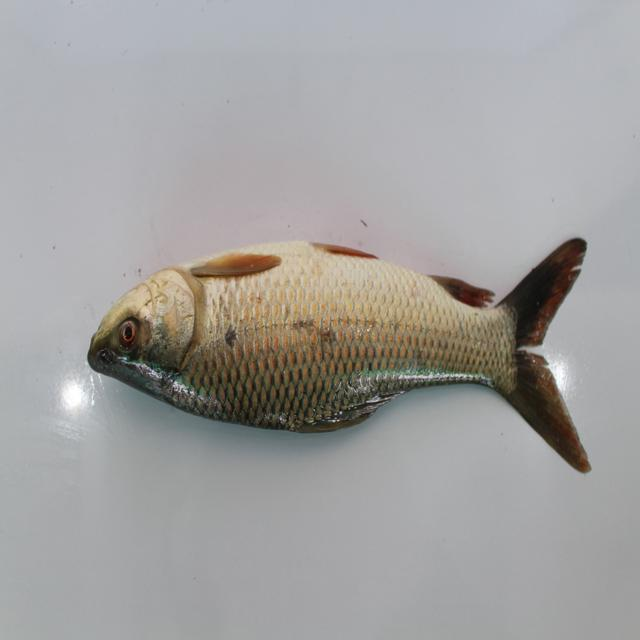Rohu: (61, 218, 638, 495)
